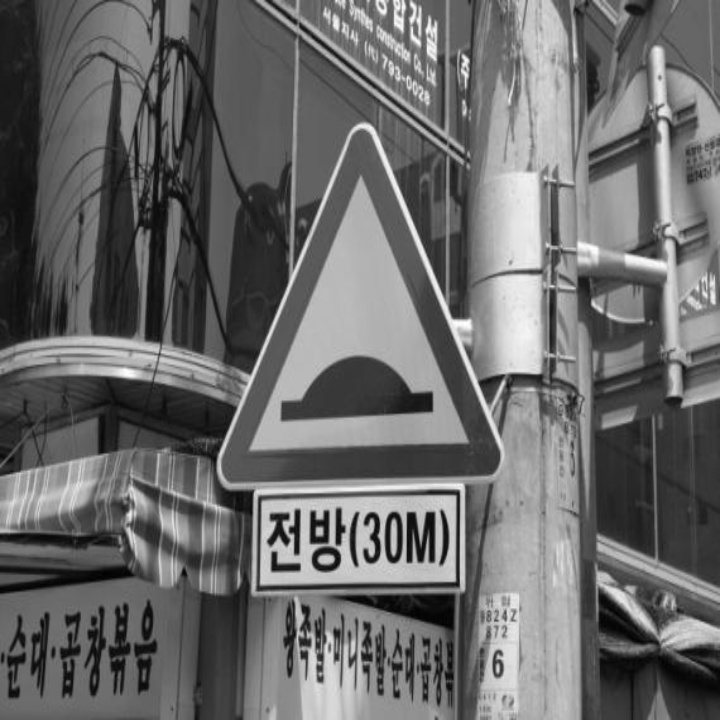bump: (242, 354, 451, 424)
